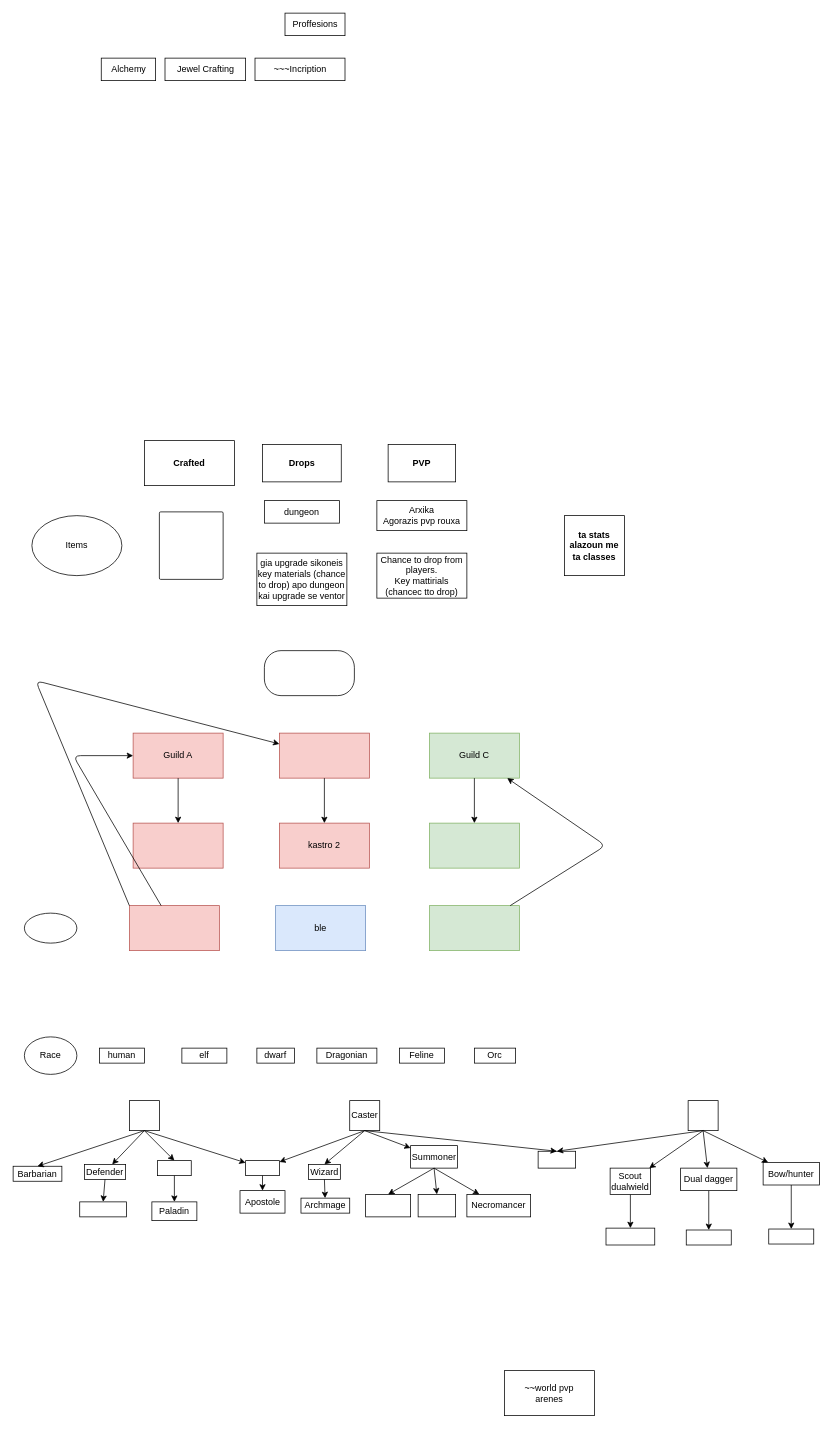
Image size: 833x1429. Some labels were removed from this diagram. The shapes that lost their labels are listed below. From the top down, each one's box as (x1, y1, x2, y2) in pixels, then its label:
(159, 511, 223, 579): Craft increase quality by upgrade Chance to fail more matrs better chance
(264, 650, 354, 696): -insignia matirials -worn items gioa antikimena kai panoplies
(279, 732, 369, 778): Guild B
(132, 822, 223, 868): Kastro 1
(429, 822, 519, 868): kastro 3
(24, 912, 77, 943): Factions
(129, 905, 219, 951): kokinoi
(429, 905, 519, 951): prasinoi
(129, 1100, 159, 1131): Fighter
(687, 1100, 718, 1131): Rogue 1h
(157, 1160, 191, 1176): knight
(245, 1160, 279, 1176): Cleric
(537, 1150, 576, 1168): Shaman
(79, 1201, 127, 1217): Guardian
(365, 1194, 411, 1217): Warlock
(417, 1194, 456, 1217): Druid
(605, 1227, 655, 1245): Duelist
(686, 1229, 731, 1245): Assasin
(768, 1228, 814, 1244): Predator
